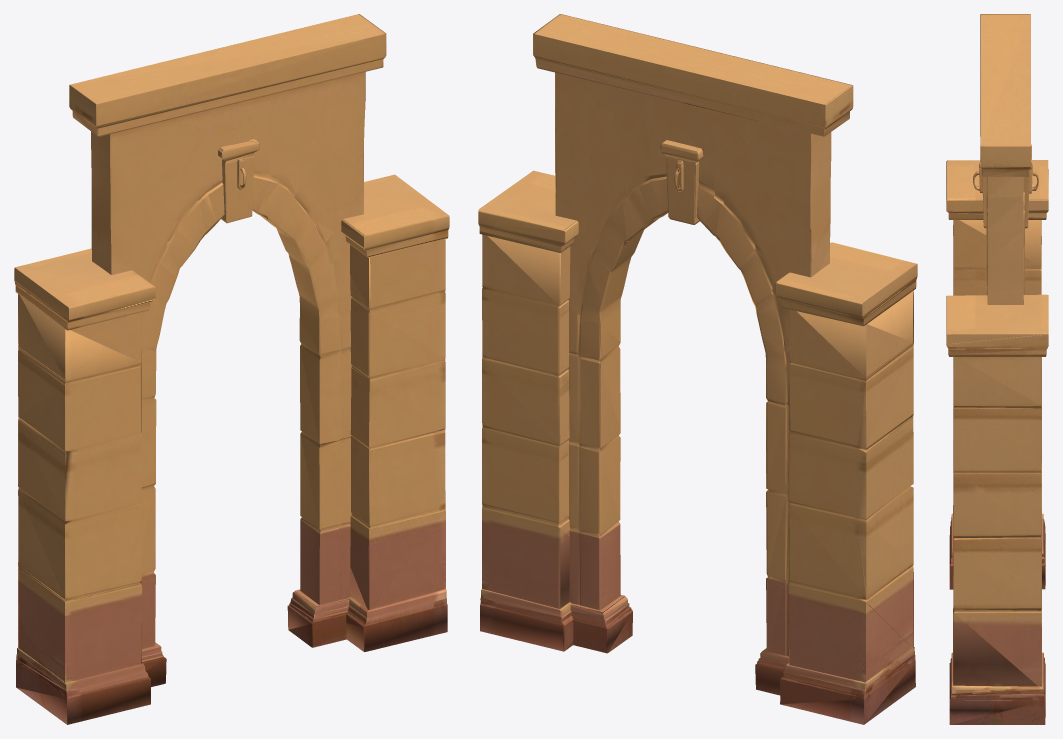
The model's file is arch.glb.
3 views of the same model, side by side, from view 1: azimuth 30°, elevation 25°; view 2: azimuth 150°, elevation 25°; view 3: azimuth 270°, elevation 25° (orthographic). The views are drawn at different scales.
Bounding box in the file's own units: 2 × 3 × 0.5.
Materials: 1 (1 with a texture image).
